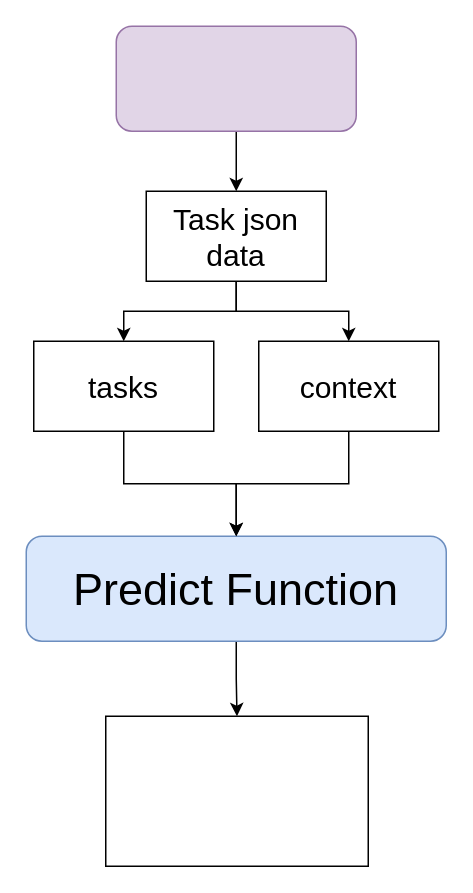
Some shapes in this 473 by 893 pixel diagram are drawn without their labels. The centre of each missing label's shape, as x and y in pixels:
"Label Studio" belongs at point (235, 78).
"ModelResponse internal class" belongs at point (236, 790).
